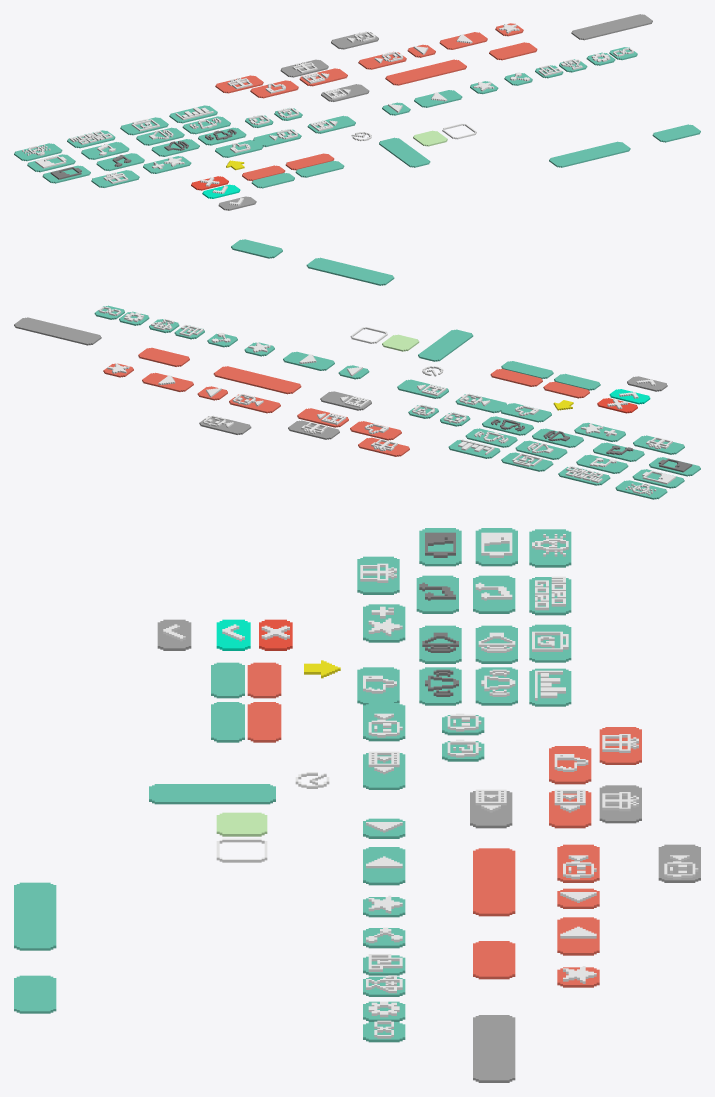
The model's file is UI_elements.dae.
3 renders of one model, top to bottom at view 1: azimuth 30°, elevation 25°; view 2: azimuth 150°, elevation 25°; view 3: azimuth 270°, elevation 25°, orthographic. The views are drawn at different scales.
Parts seen in each view (by area): view 1: button_blank_red_leftright_longer_1, button_blank_leftright_longer, button_blank_grey_leftright_longer, button_blank_topbottom, button_restorepurchase, button_tip, button_alarm_off, button_gift, button_red_randomCharacterGet_1, button_red_rating_1, button_alarm_on, button_music_off (+28 smaller); view 2: button_blank_leftright_longer, button_blank_red_leftright_longer_1, button_blank_grey_leftright_longer, button_blank_topbottom, button_restorepurchase, button_grey_gift, button_gift, button_red_gift_1, button_tip, button_music_on, button_sound_off, button_batterysaver_on (+25 smaller); view 3: button_blank_leftright_longer, button_blank_red_leftright_longer_1, button_blank_grey_leftright_longer, button_blank_topbottom, button_red_ad_bonus_1, button_grey_ad_bonus, button_morogoro, button_plusstar, button_alarm_off, button_tip, button_alarm_on, button_blank_leftright (+39 smaller).
Boxes of the visible parts, x1,y1,x2,y2 form: button_blank_red_leftright_longer_1: (385,59,466,85); button_blank_leftright_longer: (549,141,630,167); button_blank_grey_leftright_longer: (571,14,652,40); button_blank_topbottom: (379,137,430,167); button_restorepurchase: (120,117,168,135); button_tip: (14,143,62,161); button_alarm_off: (198,127,246,145); button_gift: (91,170,139,187); button_red_randomCharacterGet_1: (358,51,406,69); button_red_rating_1: (250,80,298,98); button_alarm_on: (182,116,230,134); button_music_off: (96,153,144,171); button_blank_leftright_longer: (306,257,394,285); button_blank_red_leftright_longer_1: (213,366,301,394); button_blank_grey_leftright_longer: (14,317,101,345); button_blank_topbottom: (418,329,473,361); button_restorepurchase: (501,452,553,471); button_grey_gift: (288,420,339,439); button_gift: (633,435,684,454); button_red_gift_1: (358,437,409,456); button_tip: (615,480,667,499); button_music_on: (576,454,628,473); button_sound_off: (532,428,583,447); button_batterysaver_on: (632,469,684,488); button_blank_leftright_longer: (14,882,56,950); button_blank_red_leftright_longer_1: (473,848,515,916); button_blank_grey_leftright_longer: (473,1015,515,1082); button_blank_topbottom: (149,784,275,804); button_red_ad_bonus_1: (549,789,591,828); button_grey_ad_bonus: (470,789,512,828); button_morogoro: (529,576,571,615); button_plusstar: (363,604,405,642); button_alarm_off: (419,667,461,705); button_tip: (529,529,571,567); button_alarm_on: (475,667,517,705); button_blank_leftright: (14,975,56,1013).
Bounding box in the file's own units: 464 × 3 × 244.
Materials: 1 (1 with a texture image).
